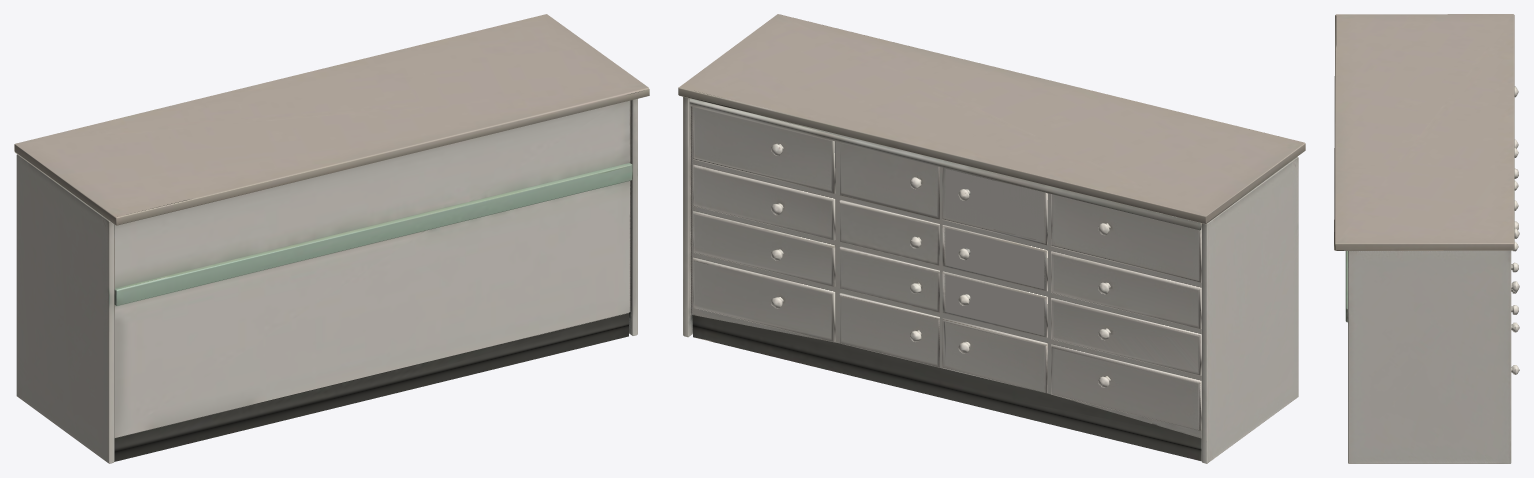
The model's file is upa_balcao.glb.
3 renders of one model, left to right at view 1: azimuth 30°, elevation 25°; view 2: azimuth 150°, elevation 25°; view 3: azimuth 270°, elevation 25°, orthographic. The views are drawn at different scales.
Parts seen in each view (by area): view 1: Mint Stripe Clinic Counter; view 2: Mint Stripe Clinic Counter; view 3: Mint Stripe Clinic Counter.
Part boxes in pixels (<box>): Mint Stripe Clinic Counter: <box>14,14,649,463</box>; Mint Stripe Clinic Counter: <box>678,14,1305,463</box>; Mint Stripe Clinic Counter: <box>1334,14,1519,463</box>.
Size of the model in its own units: 2.63 by 1.2 by 0.9013.
Materials: 2 (1 with a texture image).
